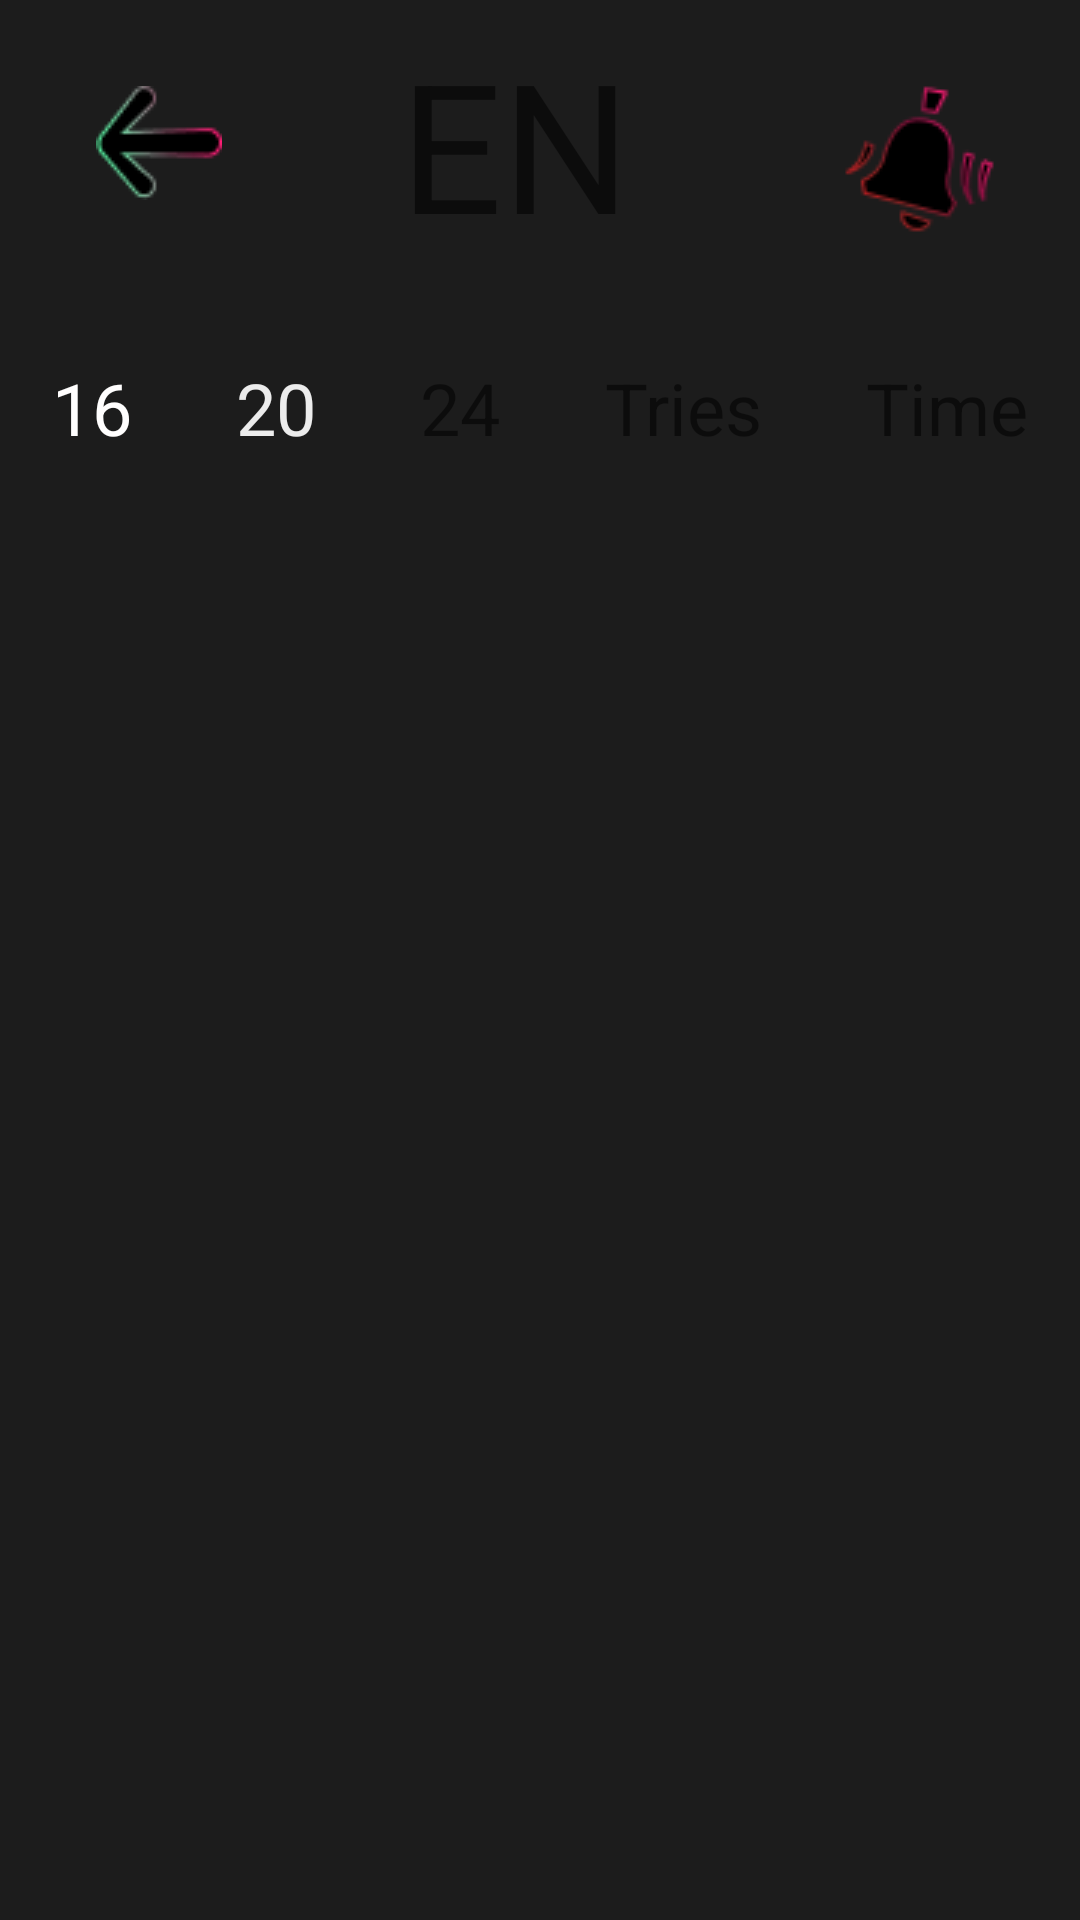

Locate icon controls on the screen. Image size 1080px x 1920px, boxes as Rect(x1, y1, x2, y2).
arrow back: Rect(96, 86, 222, 198)
